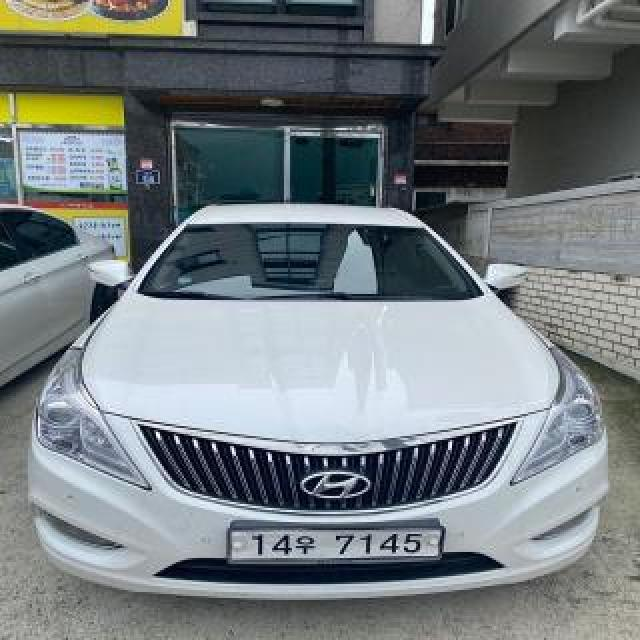car: (21, 196, 619, 598)
illegal_plate: (223, 517, 444, 575)
